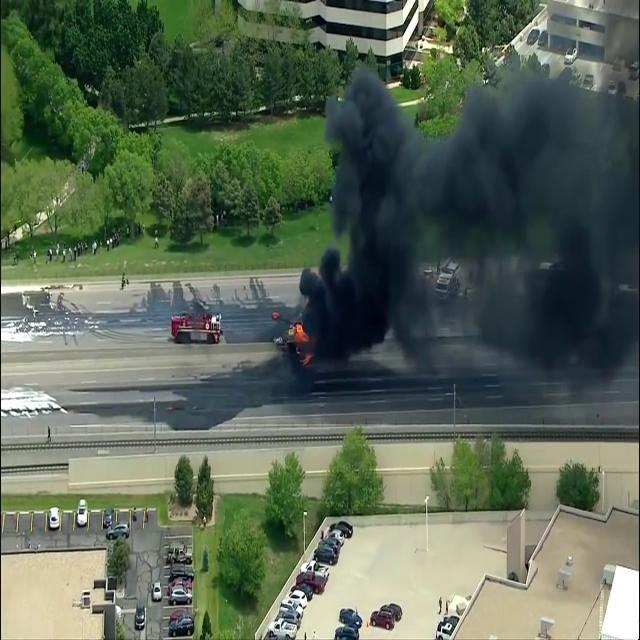Fire: (287, 314, 308, 351)
Smoke: (314, 0, 638, 370)
